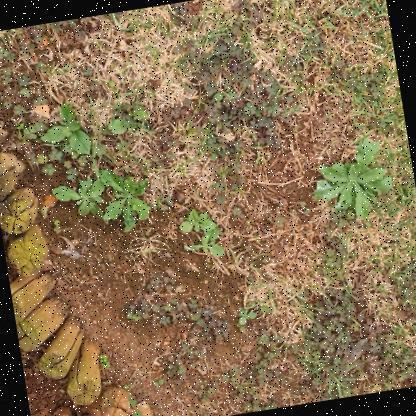Weeds: (305, 135, 397, 226), (96, 158, 159, 235), (51, 169, 109, 226), (37, 103, 92, 163), (183, 226, 227, 261), (105, 103, 151, 135), (177, 206, 216, 237), (233, 305, 259, 328)
